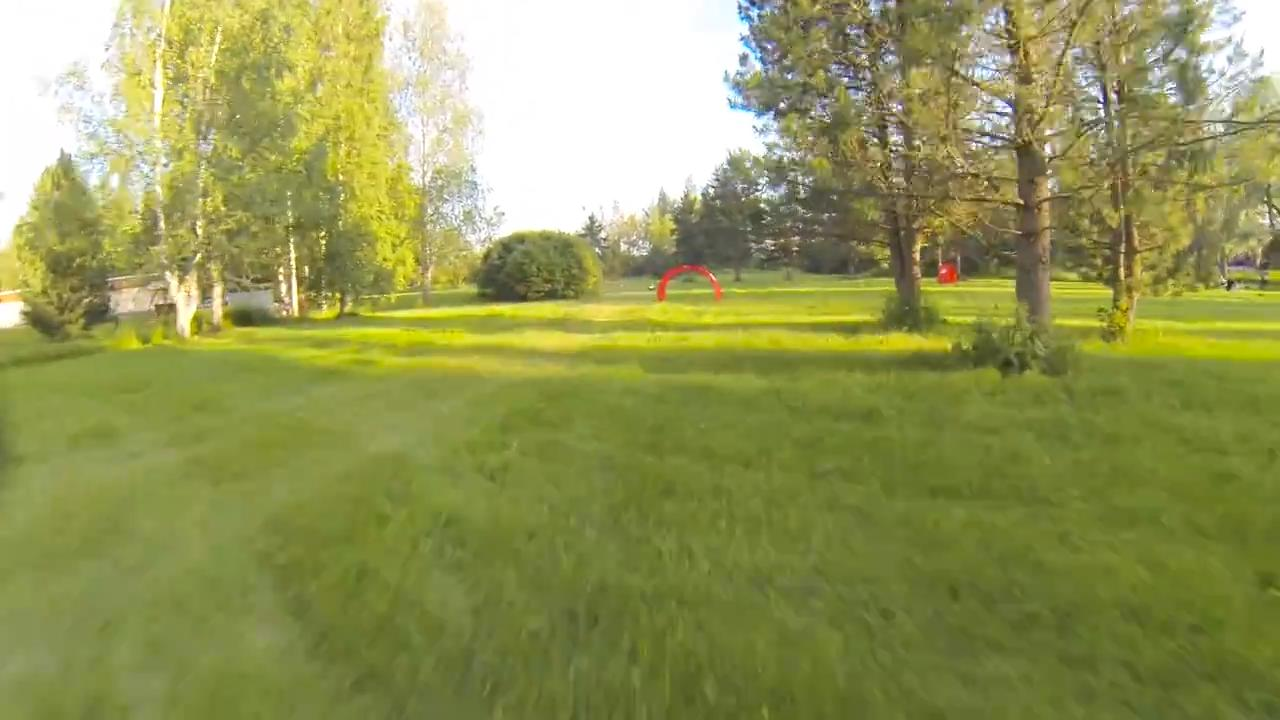gate: (655, 263, 725, 305)
